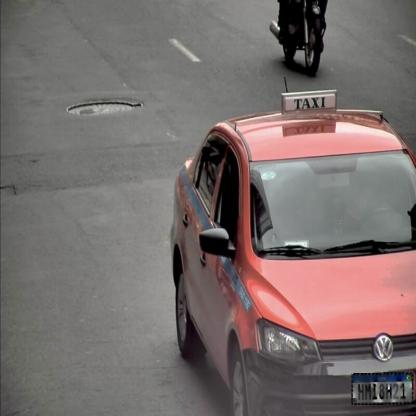PlacaM: (352, 372, 414, 405)
